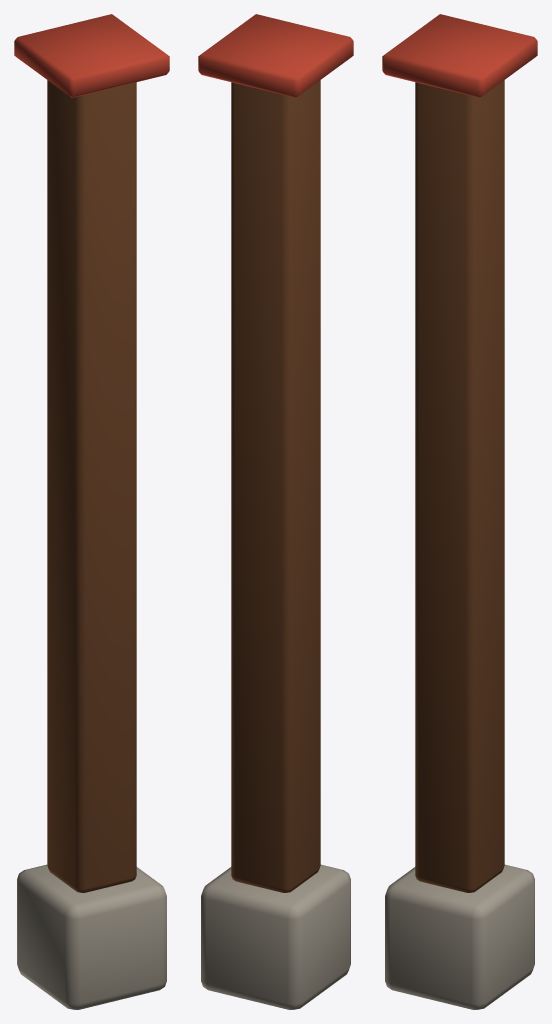
File: pilar_enxaimel.glb
The picture shows the model from 3 angles, left to right: view 1: azimuth 30°, elevation 25°; view 2: azimuth 150°, elevation 25°; view 3: azimuth 330°, elevation 25°; orthographic projection.
Parts seen in each view (by area): view 1: Pilar_Enxaimel; view 2: Pilar_Enxaimel; view 3: Pilar_Enxaimel.
Part boxes in pixels (bbox=[...]): Pilar_Enxaimel: bbox=[14, 14, 169, 1009]; Pilar_Enxaimel: bbox=[198, 14, 353, 1009]; Pilar_Enxaimel: bbox=[382, 14, 537, 1009].
Size of the model in its own units: 0.3 by 2.66 by 0.3.
